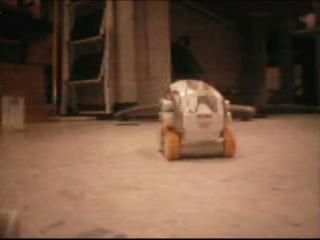cozmo: (154, 77, 241, 163)
